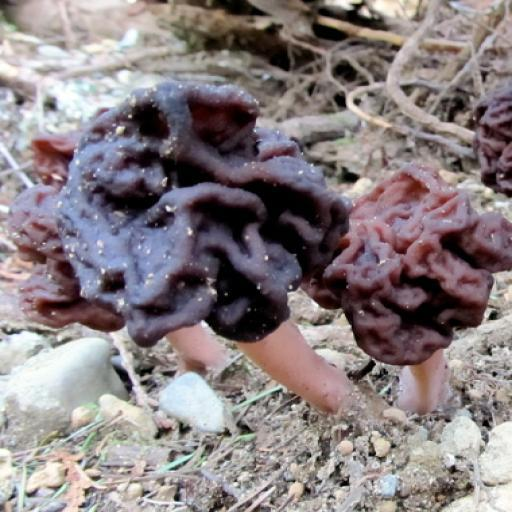mushroom: (1, 31, 379, 410), (1, 0, 1, 1)
